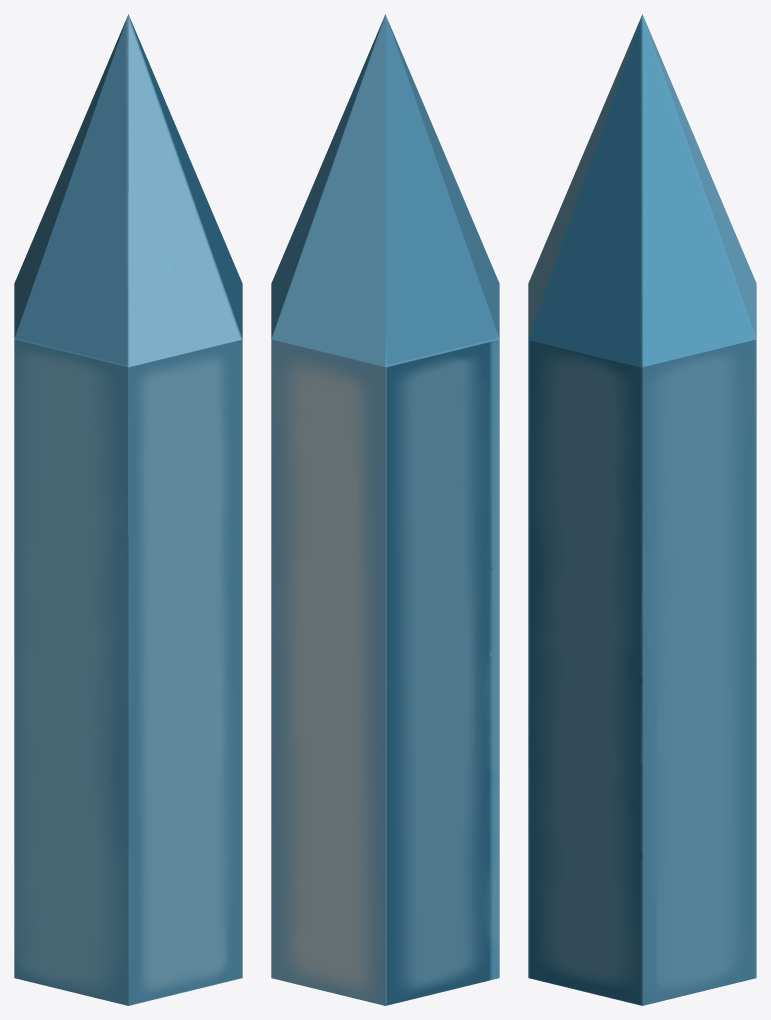
Rendered from Piller_Ice.fbx.
3 views of the same model, side by side, from view 1: azimuth 30°, elevation 25°; view 2: azimuth 150°, elevation 25°; view 3: azimuth 270°, elevation 25° (orthographic).
Visible parts, largest first — view 1: pCylinder1; view 2: pCylinder1; view 3: pCylinder1.
Part boxes in pixels (x1=…): pCylinder1: x1=14, y1=14, x2=242, y2=1005; pCylinder1: x1=271, y1=14, x2=499, y2=1005; pCylinder1: x1=528, y1=14, x2=756, y2=1005.
Size of the model in its own units: 0.2258 by 0.8846 by 0.1955.
Materials: 1 (1 with a texture image).
